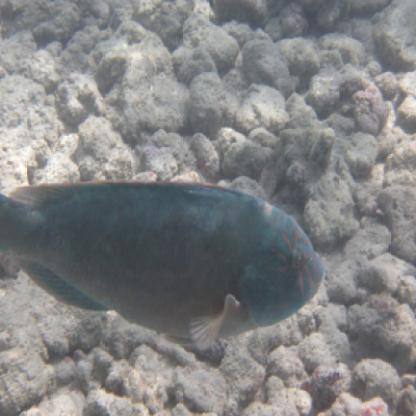Scaridae -Parrotfishes-: (1, 168, 335, 354)
